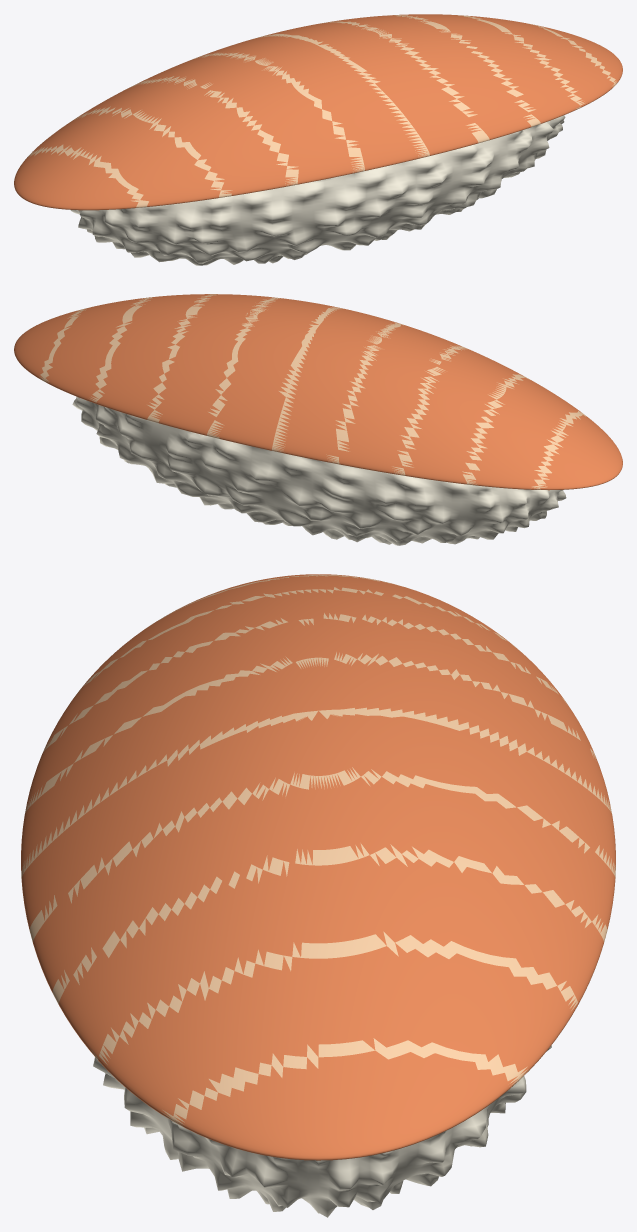
The picture shows the model from 3 angles, top to bottom: view 1: azimuth 30°, elevation 25°; view 2: azimuth 150°, elevation 25°; view 3: azimuth 270°, elevation 25°; orthographic projection. The views are drawn at different scales.
Parts seen in each view (by area): view 1: NEW320_fish, NEW320_rice; view 2: NEW320_fish, NEW320_rice; view 3: NEW320_fish, NEW320_rice.
Part boxes in pixels (x1,y1,x2,y2): NEW320_fish: [14, 14, 622, 210]; NEW320_rice: [70, 115, 565, 265]; NEW320_fish: [14, 294, 622, 490]; NEW320_rice: [72, 396, 566, 545]; NEW320_fish: [21, 574, 615, 1160]; NEW320_rice: [93, 1045, 551, 1217].
Size of the model in its own units: 0.068 by 0.0212 by 0.0297.
